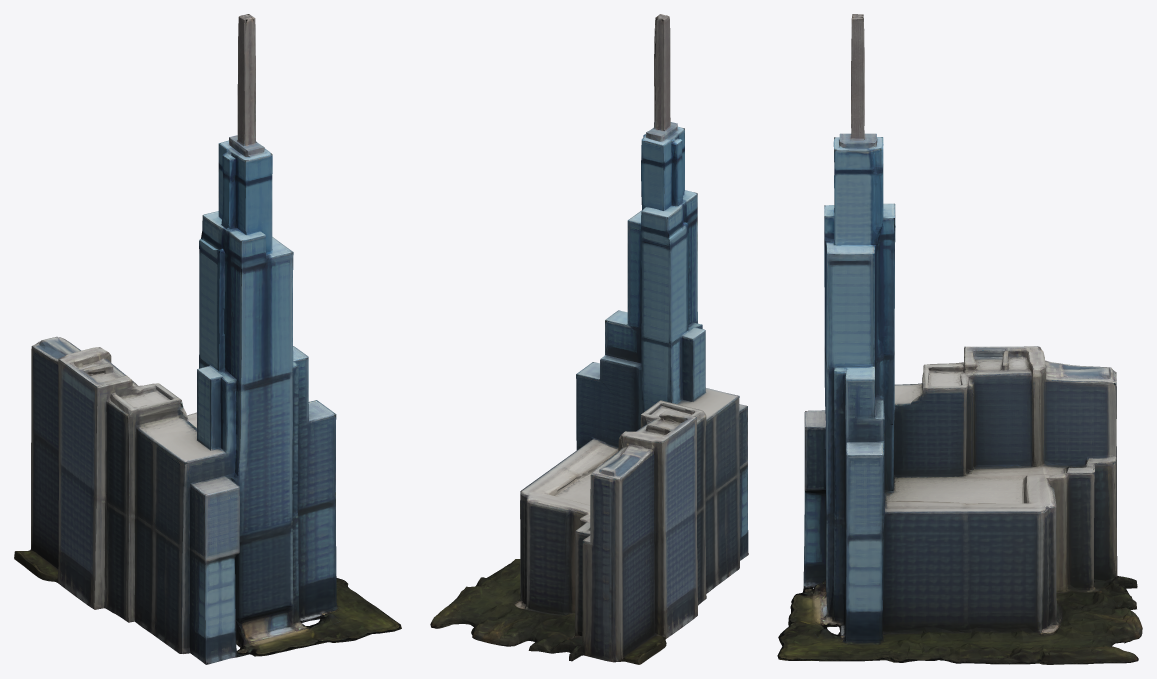
Rendered from Landmark81.glb.
3 views of the same model, side by side, from view 1: azimuth 30°, elevation 25°; view 2: azimuth 150°, elevation 25°; view 3: azimuth 270°, elevation 25° (orthographic). The views are drawn at different scales.
Visible parts, largest first — view 1: world; view 2: world; view 3: world.
Boxes of the visible parts, x1,y1,x2,y2 form: world: [14, 14, 401, 664]; world: [430, 14, 748, 664]; world: [777, 14, 1142, 664].
Size of the model in its own units: 0.3946 by 1 by 0.5604.
1 material, 1 textured.
